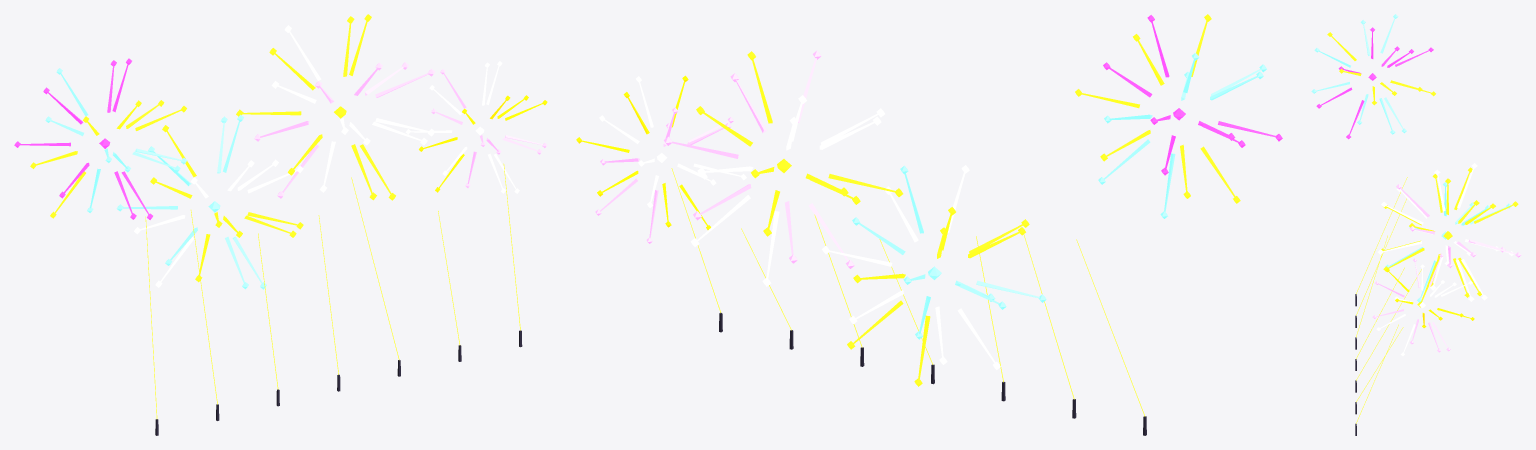
File: W6_Mid_Fireworks.fbx
3 views of the same model, side by side, from view 1: azimuth 30°, elevation 25°; view 2: azimuth 150°, elevation 25°; view 3: azimuth 270°, elevation 25° (orthographic). The views are drawn at different scales.
Parts seen in each view (by area): view 1: W6_Mid_Fireworks; view 2: W6_Mid_Fireworks; view 3: W6_Mid_Fireworks.
Boxes of the visible parts, box(x1,y1,x2,y2) form: W6_Mid_Fireworks: box(14, 14, 547, 435); W6_Mid_Fireworks: box(576, 14, 1282, 435); W6_Mid_Fireworks: box(1311, 14, 1521, 435).
Bounding box in the file's own units: 180 × 118 × 82.22.
